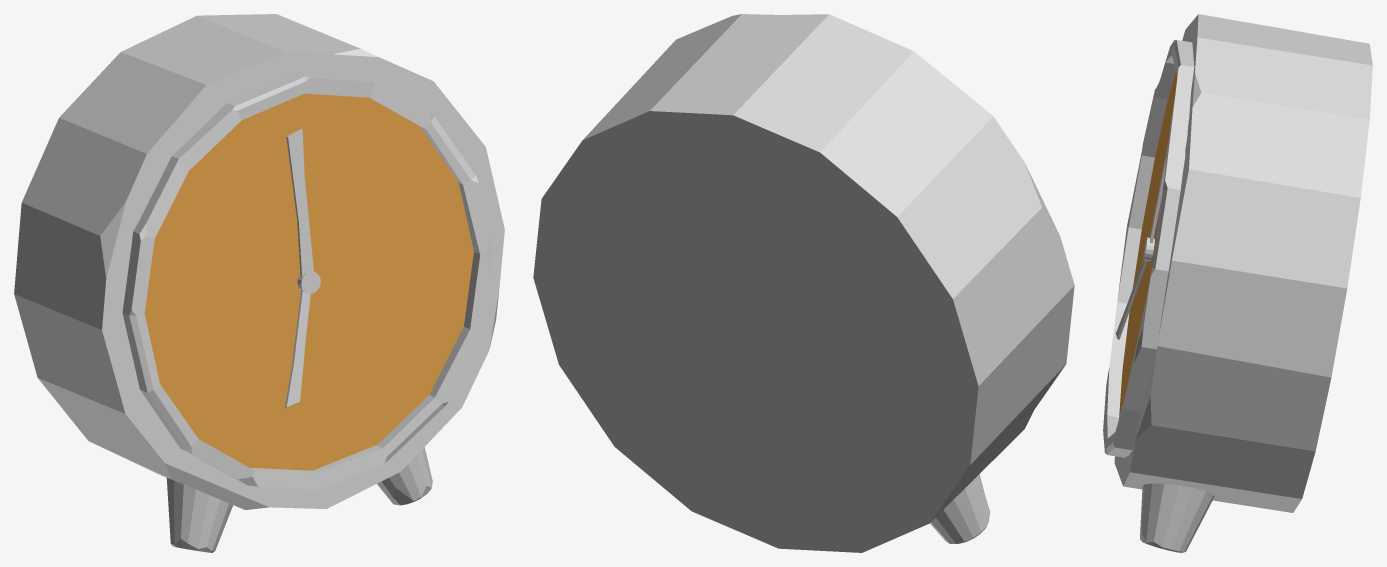
File: BPW2_Clock 1.fbx
The picture shows the model from 3 angles, left to right: view 1: azimuth 30°, elevation 25°; view 2: azimuth 150°, elevation 25°; view 3: azimuth 270°, elevation 25°; orthographic projection. The views are drawn at different scales.
Visible parts, largest first — view 1: Cylinder.002, Cylinder.001, Cylinder, Cylinder.004, Cube, Cylinder.005, Cube.001; view 2: Cylinder.001, Cylinder.004; view 3: Cylinder.001, Cylinder, Cylinder.005, Cylinder.002, Cube.001, Cube.
Boxes of the visible parts, x1=… form: Cylinder.002: x1=144, y1=93, x2=473, y2=470; Cylinder.001: x1=14, y1=14, x2=504, y2=509; Cylinder: x1=122, y1=74, x2=492, y2=489; Cylinder.004: x1=166, y1=477, x2=232, y2=552; Cube: x1=286, y1=129, x2=313, y2=275; Cylinder.005: x1=377, y1=447, x2=432, y2=505; Cube.001: x1=284, y1=290, x2=310, y2=408; Cylinder.001: x1=533, y1=14, x2=1074, y2=552; Cylinder.004: x1=930, y1=474, x2=990, y2=543; Cylinder.001: x1=1114, y1=14, x2=1372, y2=512; Cylinder: x1=1103, y1=40, x2=1194, y2=457; Cylinder.005: x1=1140, y1=483, x2=1214, y2=552; Cylinder.002: x1=1119, y1=72, x2=1177, y2=417; Cube.001: x1=1115, y1=260, x2=1147, y2=339; Cube: x1=1149, y1=140, x2=1168, y2=243.
Size of the model in its own units: 222 by 242 by 128.
